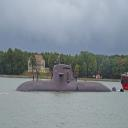submarine: (17, 63, 116, 94)
